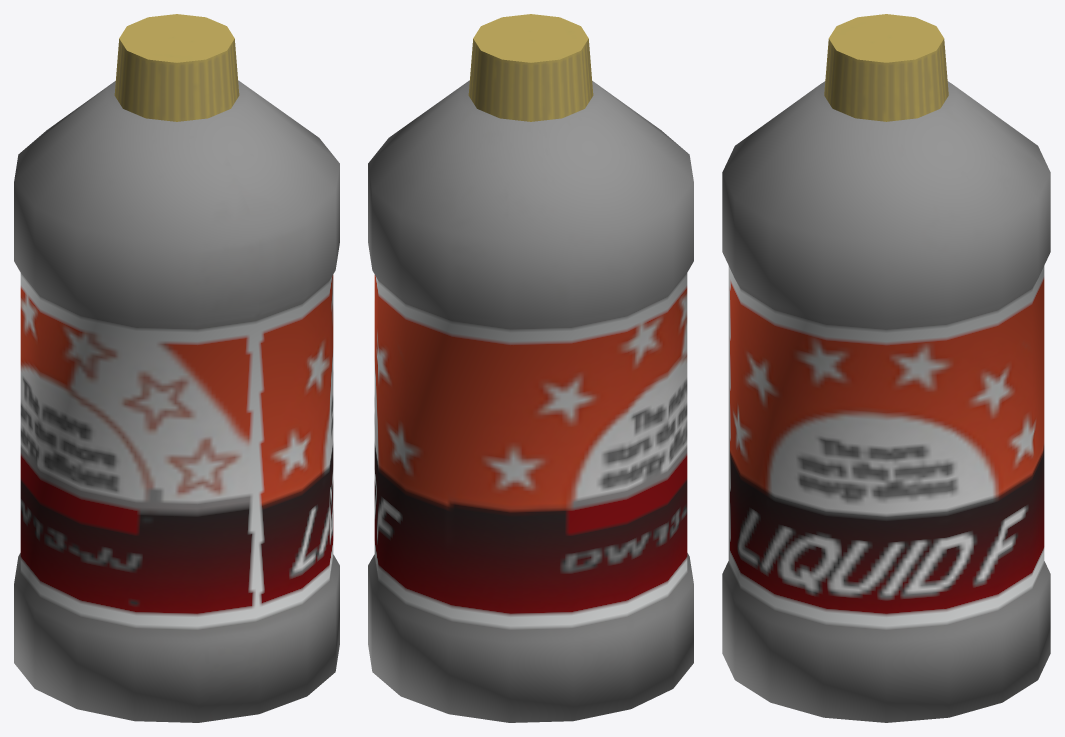
The model's file is SM_BottlePlasticB_02.fbx.
3 renders of one model, left to right at view 1: azimuth 30°, elevation 25°; view 2: azimuth 150°, elevation 25°; view 3: azimuth 270°, elevation 25°, orthographic.
Parts seen in each view (by area): view 1: SM_BottlePlasticB_02; view 2: SM_BottlePlasticB_02; view 3: SM_BottlePlasticB_02.
Boxes of the visible parts, x1=… form: SM_BottlePlasticB_02: x1=14, y1=14, x2=339, y2=722; SM_BottlePlasticB_02: x1=368, y1=14, x2=693, y2=722; SM_BottlePlasticB_02: x1=722, y1=14, x2=1050, y2=722.
Size of the model in its own units: 9.73 by 20.13 by 9.73.
